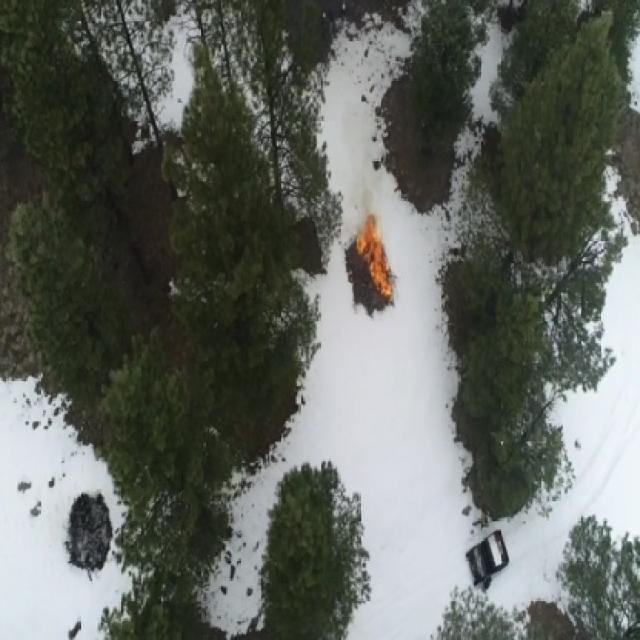Fire: (354, 212, 394, 300)
